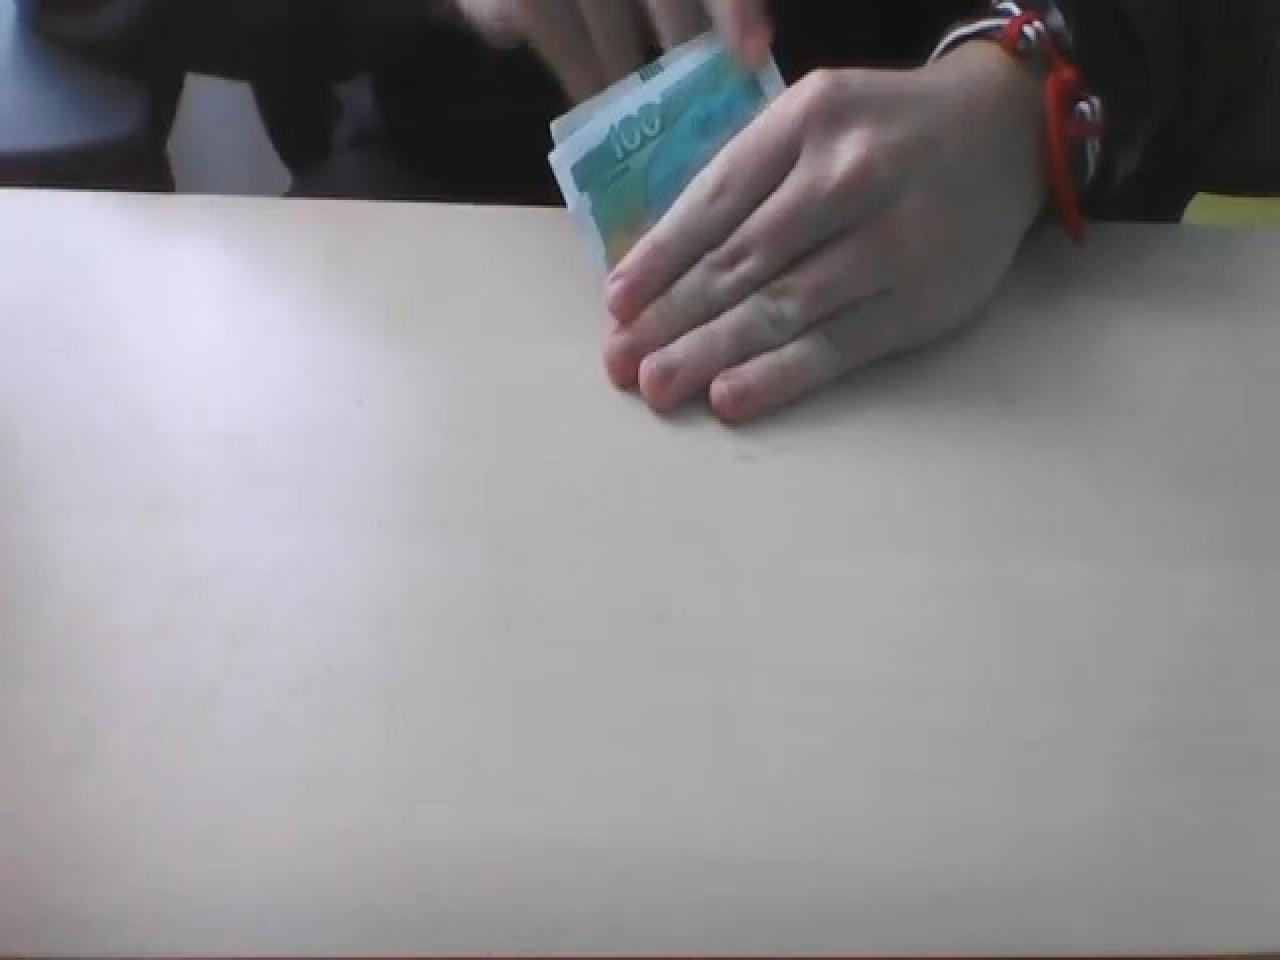100leva: (548, 34, 784, 272)
